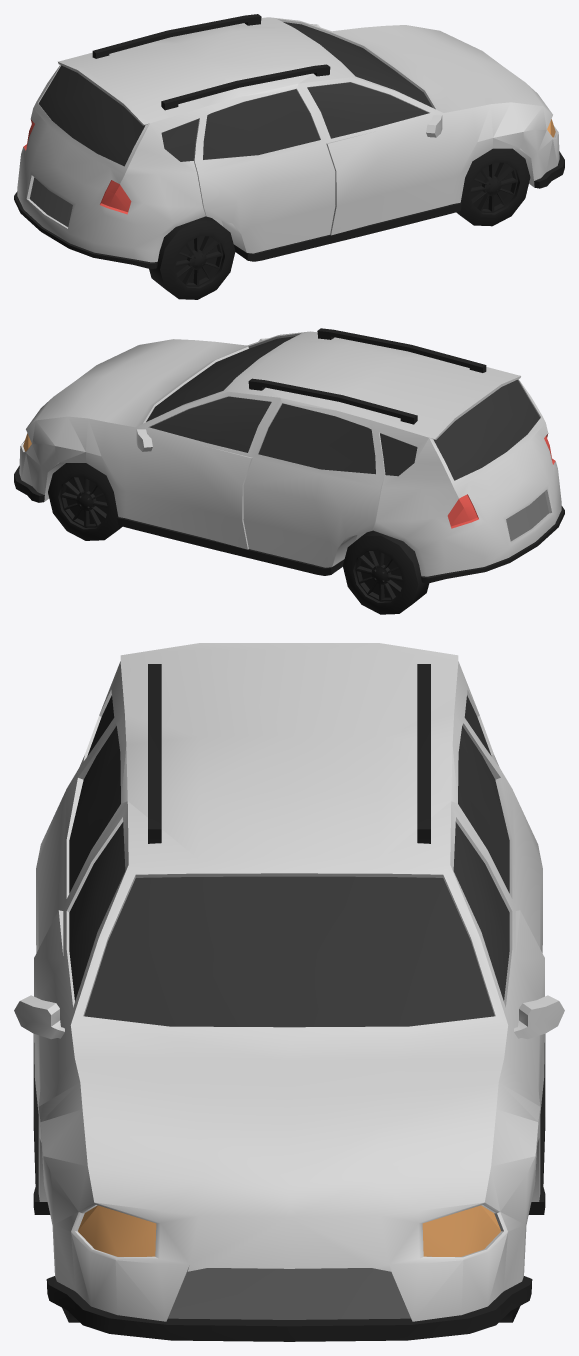
File: q_SUV.glb
The picture shows the model from 3 angles, top to bottom: view 1: azimuth 30°, elevation 25°; view 2: azimuth 150°, elevation 25°; view 3: azimuth 270°, elevation 25°; orthographic projection. The views are drawn at different scales.
Visible parts, largest first — view 1: part (×50), BackWheels, FrontRightWheel; view 2: part (×50), BackWheels, FrontLeftWheel; view 3: part (×56).
Part boxes in pixels (x1,y1,x2,y2): part (×50): (17, 14, 564, 268); BackWheels: (149, 216, 235, 299); FrontRightWheel: (456, 148, 530, 226); part (×50): (14, 328, 561, 583); BackWheels: (343, 530, 429, 614); FrontLeftWheel: (48, 463, 122, 540); part (×56): (14, 643, 564, 1341).
Size of the model in its own units: 4.21 by 1.53 by 2.11.
